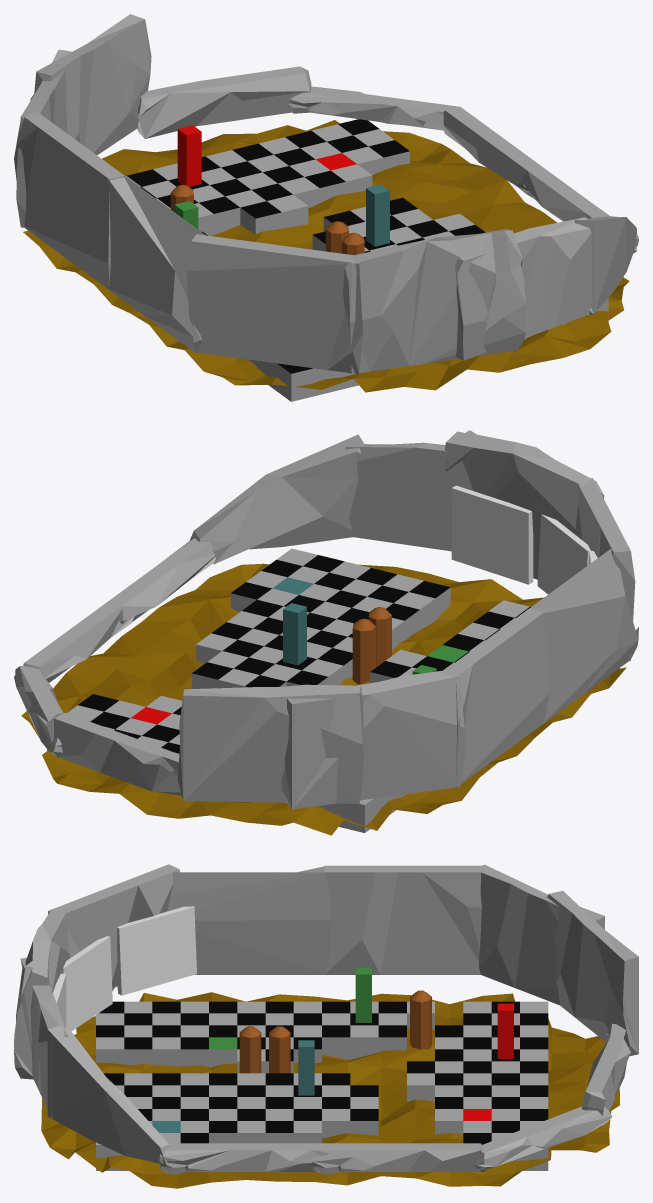
File: Fire_Puzzle.fbx
3 views of the same model, one above another, from view 1: azimuth 30°, elevation 25°; view 2: azimuth 150°, elevation 25°; view 3: azimuth 270°, elevation 25° (orthographic). The views are drawn at different scales.
Parts seen in each view (by area): view 1: lava, suelo, pared1, pared_10, pared_6, pared_5, pared_3, pared_12, pared_8, pared_7, pared_11, pared_2 (+5 smaller); view 2: suelo, lava, pared_9, pared_12, pared_2, pared_6, pared_5, pared_3, pared_10, panel1, pared_8, pared_4 (+7 smaller); view 3: suelo, lava, pared_6, pared_5, pared_12, pared_9, pared_2, panel_2, pared1, pared_11, pared_4, pared_10 (+11 smaller).
Boxes of the visible parts, left/top/right/bottom form: lava: left=23, top=120, right=629, bottom=392; suelo: left=125, top=119, right=608, bottom=401; pared1: left=186, top=234, right=362, bottom=374; pared_10: left=343, top=229, right=525, bottom=374; pared_6: left=14, top=111, right=124, bottom=287; pared_5: left=107, top=176, right=205, bottom=352; pared_3: left=455, top=217, right=596, bottom=360; pared_12: left=34, top=14, right=151, bottom=155; pared_8: left=137, top=66, right=311, bottom=138; pared_7: left=287, top=86, right=459, bottom=131; pared_11: left=443, top=106, right=547, bottom=197; pared_2: left=574, top=216, right=637, bottom=314; suelo: left=47, top=548, right=530, bottom=832; lava: left=21, top=563, right=626, bottom=835; pared_9: left=281, top=670, right=464, bottom=809; pared_12: left=178, top=684, right=363, bottom=803; pared_2: left=189, top=434, right=364, bottom=564; pared_6: left=441, top=608, right=549, bottom=787; pared_5: left=529, top=549, right=638, bottom=724; pared_3: left=345, top=442, right=473, bottom=551; pared_10: left=445, top=430, right=604, bottom=579; panel1: left=451, top=485, right=533, bottom=584; pared_8: left=46, top=713, right=181, bottom=795; pared_4: left=110, top=538, right=215, bottom=624; suelo: left=96, top=1001, right=548, bottom=1170; lava: left=41, top=992, right=619, bottom=1188; pared_6: left=324, top=865, right=487, bottom=974; pared_5: left=167, top=866, right=331, bottom=974; pared_12: left=546, top=890, right=638, bottom=1055; pared_9: left=477, top=864, right=604, bottom=1005; pared_2: left=47, top=1025, right=170, bottom=1164; panel_2: left=117, top=906, right=196, bottom=995; pared1: left=48, top=864, right=179, bottom=990; pared_11: left=312, top=1143, right=485, bottom=1174; pared_4: left=159, top=1143, right=328, bottom=1174; pared_10: left=14, top=909, right=69, bottom=1079.
Size of the model in its own units: 29.66 by 9.93 by 38.46.
